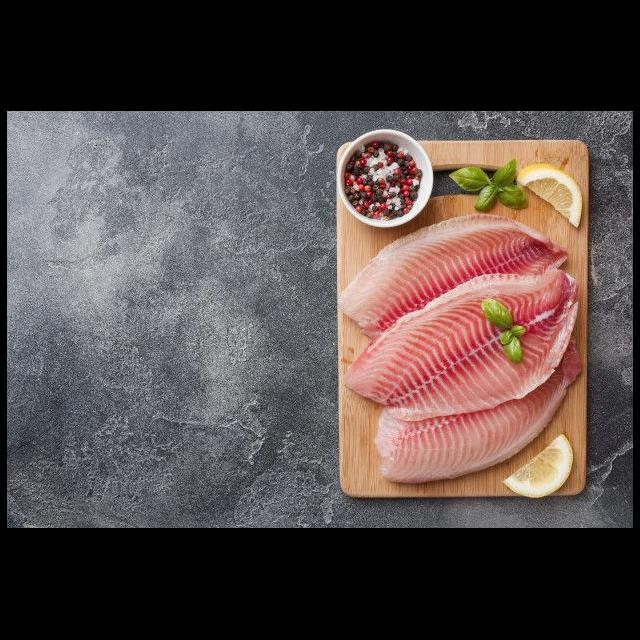fish: (347, 266, 585, 424)
